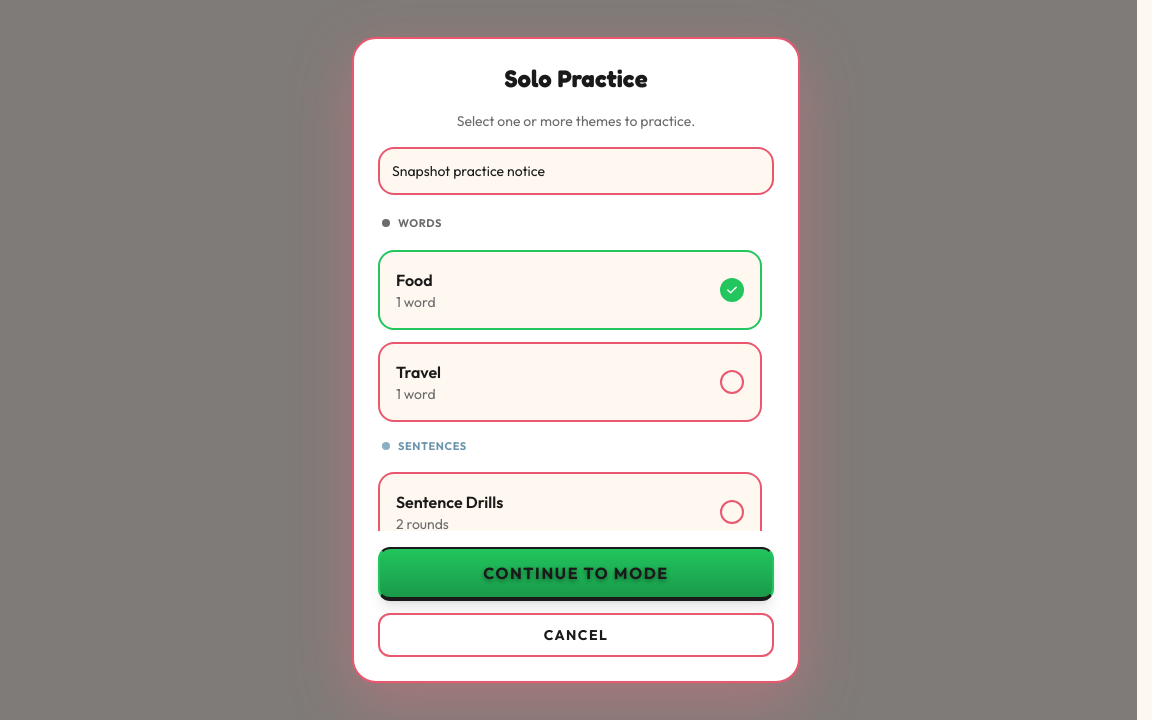
it: SoloPracticeModal Solo Practice mode › shows the selector notice only before mode selection
This screenshot has width=1152, height=720.
expect the text "Snapshot practice notice" is shown: met, box [378, 147, 774, 195]
Step 1. Click the button with test id "theme-selector-confirm" → click(576, 574), box [378, 547, 774, 601]
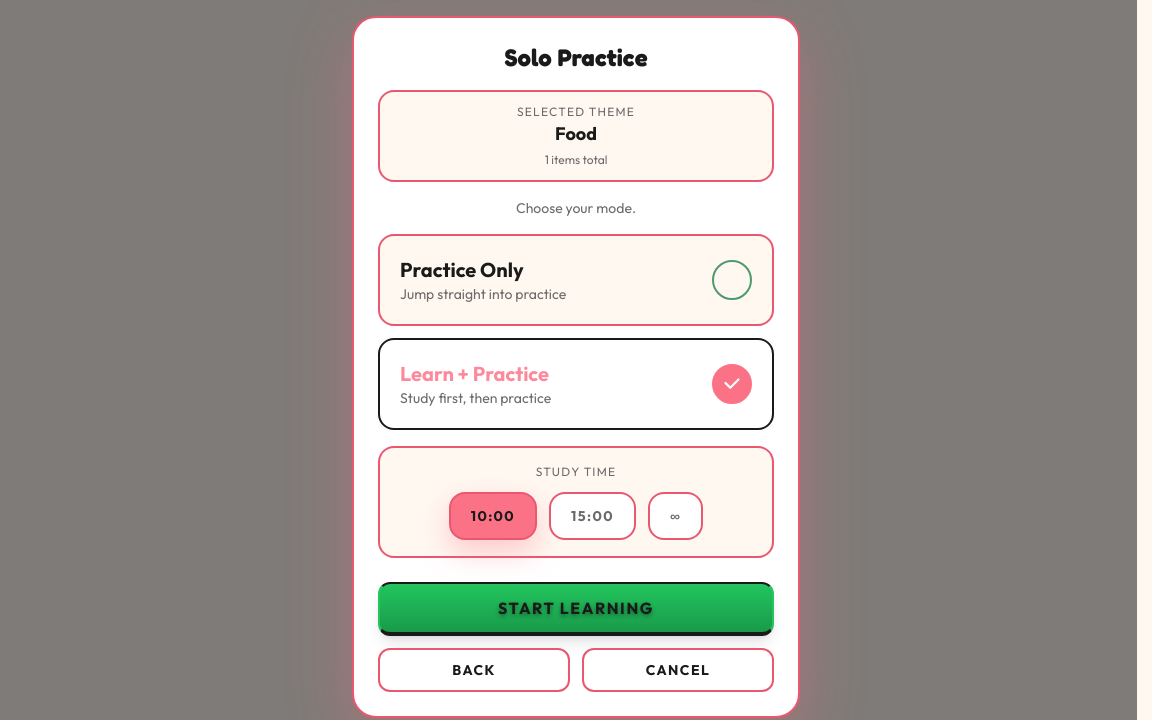
expect the text "Snapshot practice notice" is gone: met
